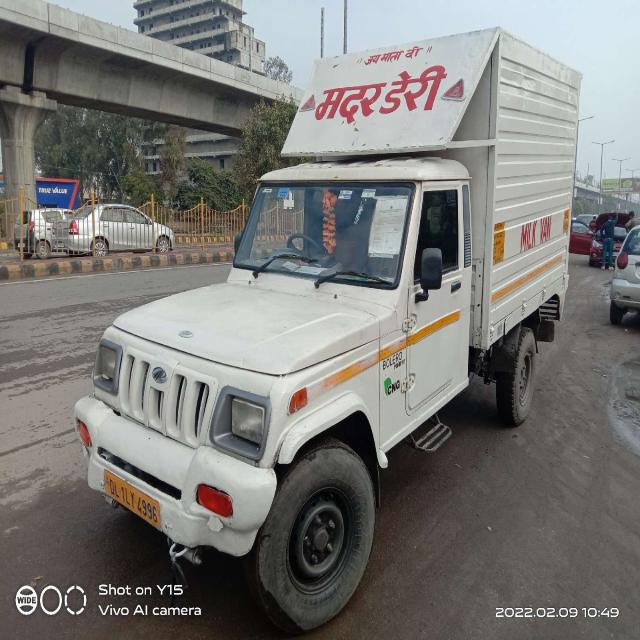light_vehicle: (74, 57, 599, 570)
